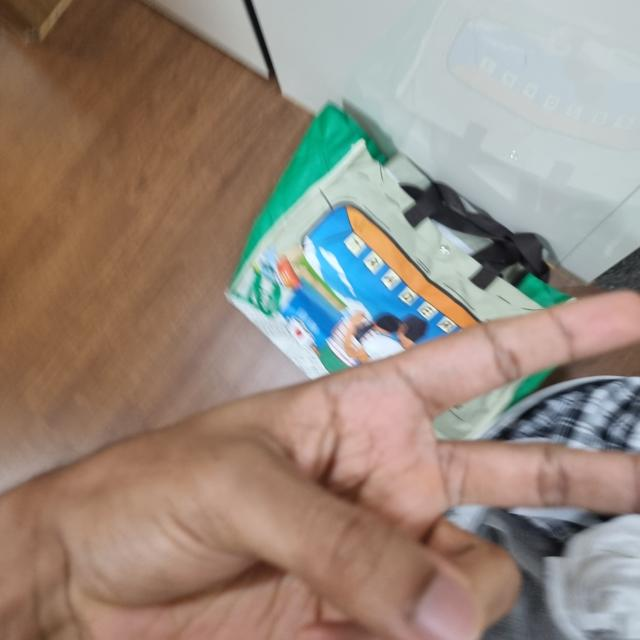Scissors: (32, 296, 640, 639)
